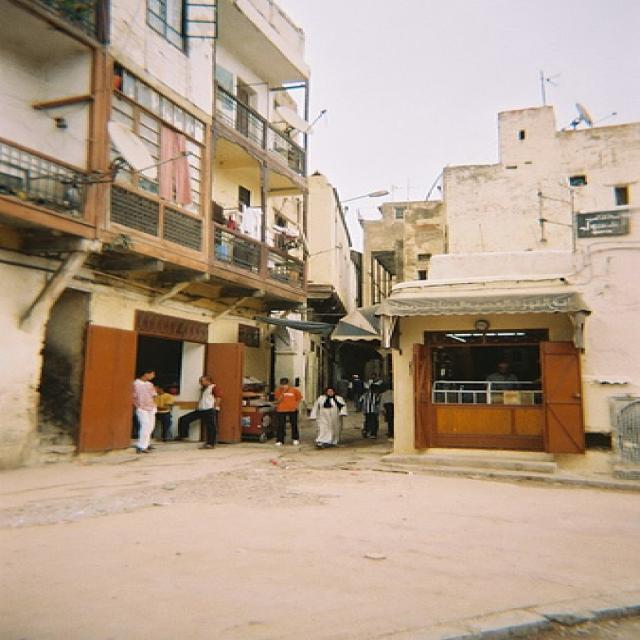person: (176, 376, 225, 452), (130, 370, 164, 456), (310, 390, 351, 449), (274, 379, 302, 449), (152, 385, 181, 444), (359, 385, 387, 441), (490, 362, 526, 391)
